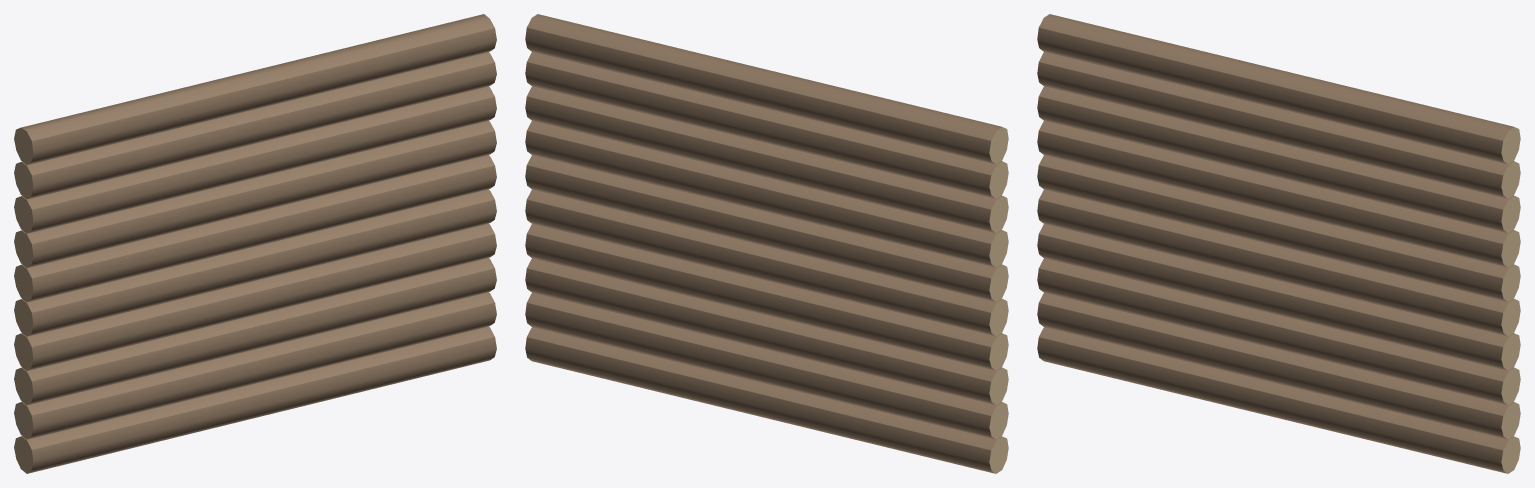
The model's file is log_wall_diagonal.glb.
3 renders of one model, left to right at view 1: azimuth 30°, elevation 25°; view 2: azimuth 150°, elevation 25°; view 3: azimuth 330°, elevation 25°, orthographic.
Parts seen in each view (by area): view 1: Wall; view 2: Wall; view 3: Wall.
Part boxes in pixels (left/top/right/bottom): Wall: left=14, top=14, right=496, bottom=473; Wall: left=525, top=14, right=1008, bottom=473; Wall: left=1037, top=14, right=1520, bottom=473.
Bounding box in the file's own units: 4.24 × 3 × 0.3116.
